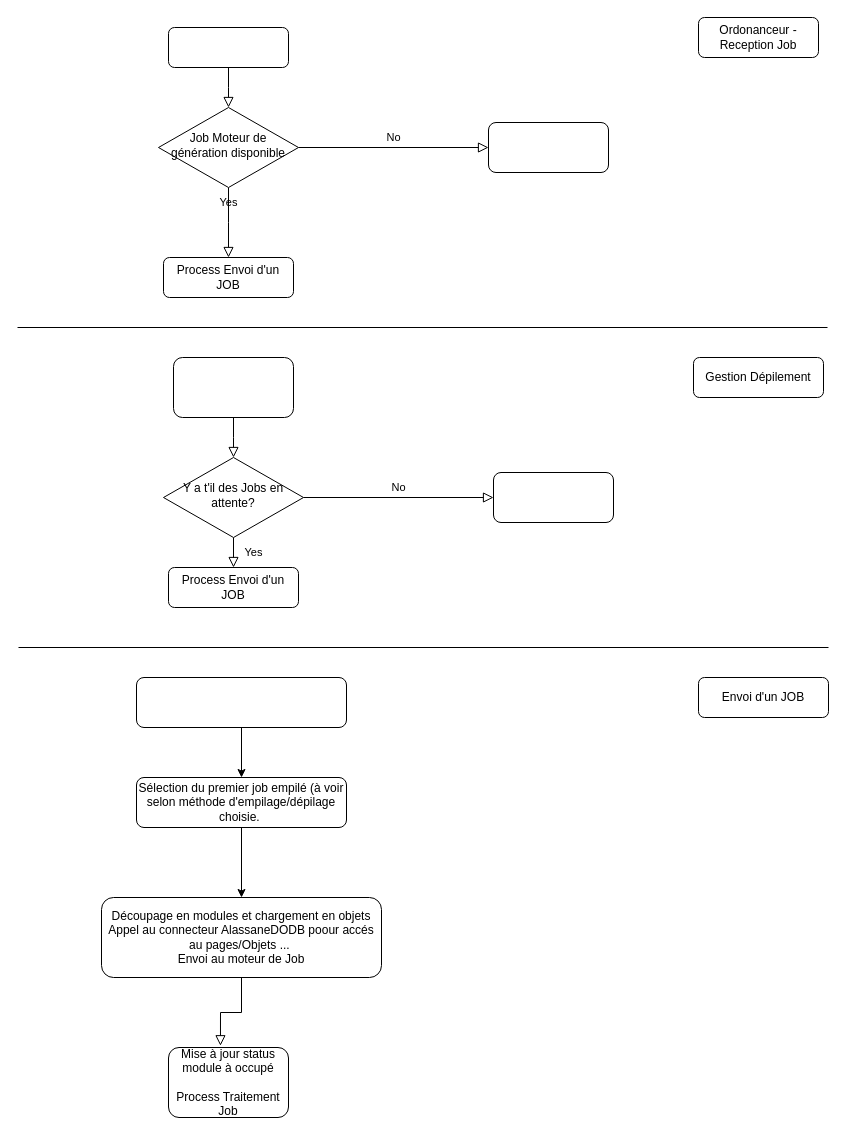
This 847x1136 diagram has some shape labels left out. Each missing label, with the centre of its shape:
"Mise Dans le gestionnaire de queue du Job" goes at point 548,147.
"Mise à jour status module à disponible" goes at point 553,497.
"Reception Job" goes at point 228,47.
"Un Job doit partir Reception évènement du moteur de prod" goes at point 241,702.
"Événement fin de job du moteur de prod." goes at point 233,387.
